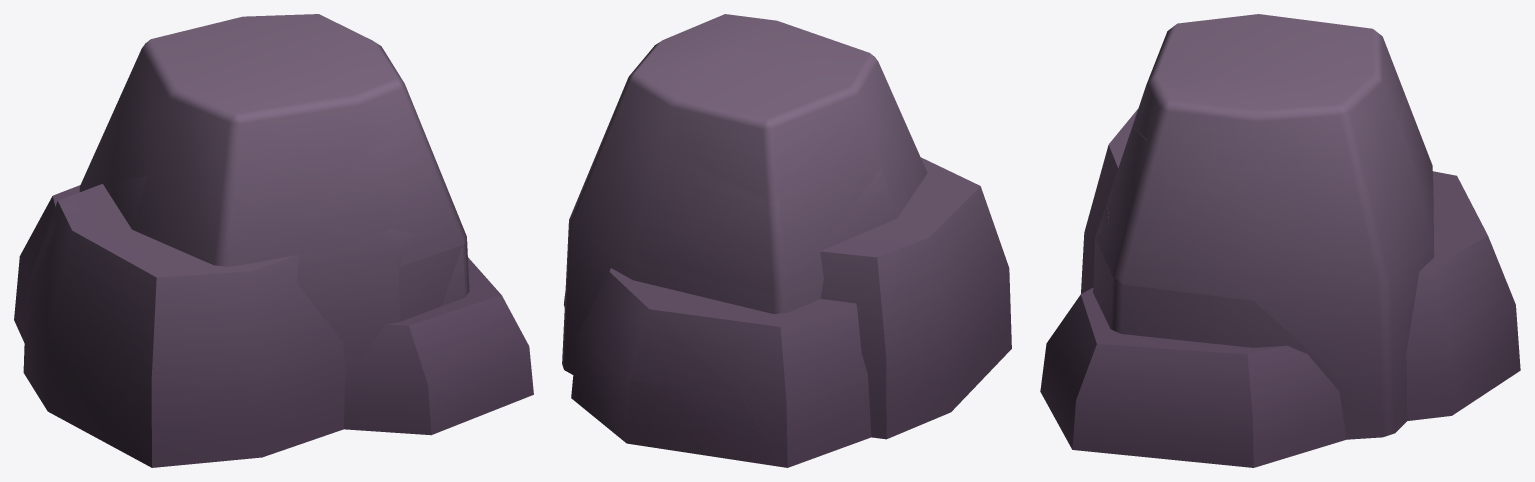
File: Stone_Asian_3.fbx
3 views of the same model, side by side, from view 1: azimuth 30°, elevation 25°; view 2: azimuth 150°, elevation 25°; view 3: azimuth 270°, elevation 25° (orthographic). The views are drawn at different scales.
Visible parts, largest first — view 1: Stone_1, Stone_2, Stone_3, Stone_4; view 2: Stone_1, Stone_2, Stone_5, Stone_4; view 3: Stone_1, Stone_2, Stone_3.
Boxes of the visible parts, box(x1,y1,x2,y2) form: Stone_1: box(14, 14, 533, 467); Stone_2: box(81, 114, 469, 452); Stone_3: box(297, 228, 469, 321); Stone_4: box(26, 184, 102, 297); Stone_1: box(562, 14, 1011, 467); Stone_2: box(562, 151, 896, 366); Stone_5: box(626, 294, 784, 467); Stone_4: box(787, 242, 899, 432); Stone_1: box(1040, 14, 1520, 467); Stone_2: box(1081, 92, 1433, 436); Stone_3: box(1093, 202, 1382, 439).
Bounding box in the file's own units: 124 × 86.97 × 123.
Materials: 1 (1 with a texture image).
